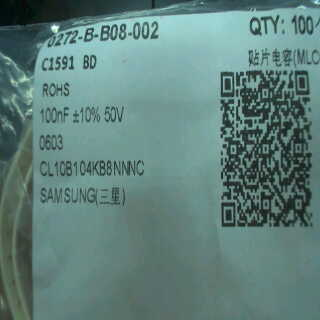100nF: (38, 104, 71, 126)
